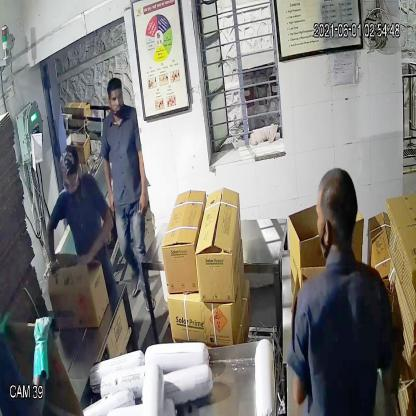no_goggles: (103, 86, 127, 109)
